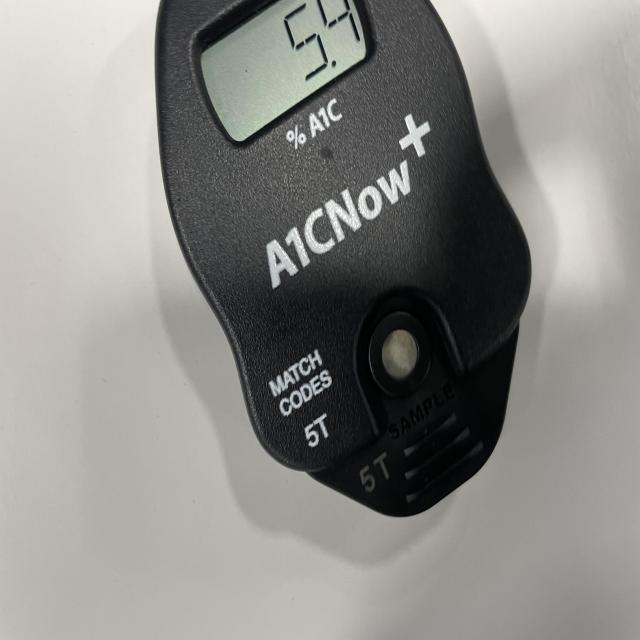hba1c: (154, 0, 533, 520)
